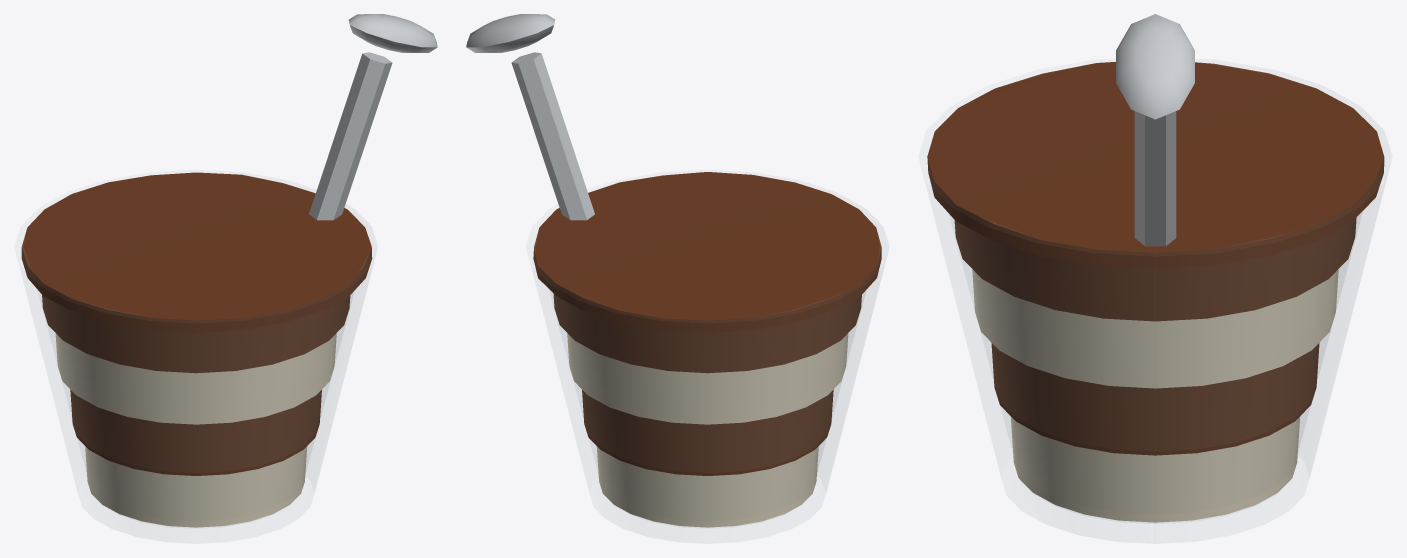
Rendered from dessert_tiramisu_cup.glb.
3 renders of one model, left to right at view 1: azimuth 30°, elevation 25°; view 2: azimuth 150°, elevation 25°; view 3: azimuth 270°, elevation 25°, orthographic. The views are drawn at different scales.
Visible parts, largest first — view 1: dessert_tiramisu_cup; view 2: dessert_tiramisu_cup; view 3: dessert_tiramisu_cup.
Boxes of the visible parts, x1,y1,x2,y2 form: dessert_tiramisu_cup: (15,14,437,543); dessert_tiramisu_cup: (466,14,888,543); dessert_tiramisu_cup: (919,14,1391,543).
Size of the model in its own units: 0.1011 by 0.1057 by 0.08.
